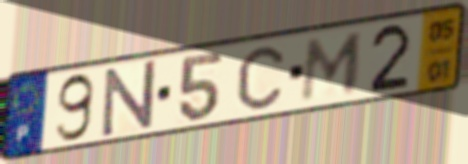2: (368, 22, 413, 95)
5: (178, 50, 226, 124)
9: (53, 71, 97, 144)
C: (235, 43, 286, 112)
M: (297, 29, 367, 105)
N: (100, 57, 158, 140)
